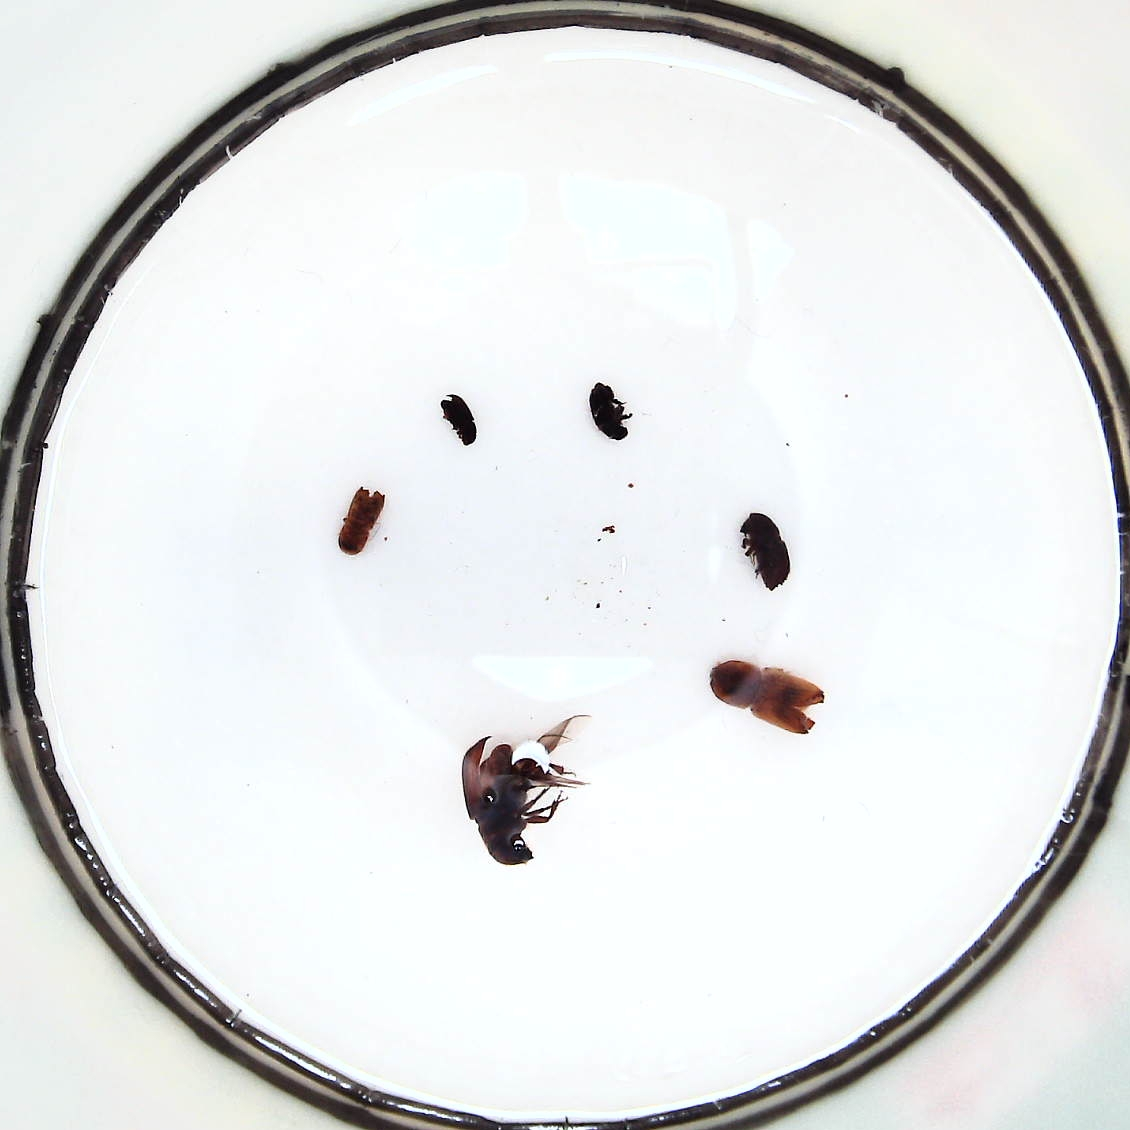Boerner: (709, 661, 825, 735)
Leconte: (462, 735, 563, 866)
acuminatus: (441, 394, 476, 445)
armandi: (338, 486, 385, 555)
coleoptera: (589, 382, 628, 440)
linnaeus: (740, 513, 790, 591)
